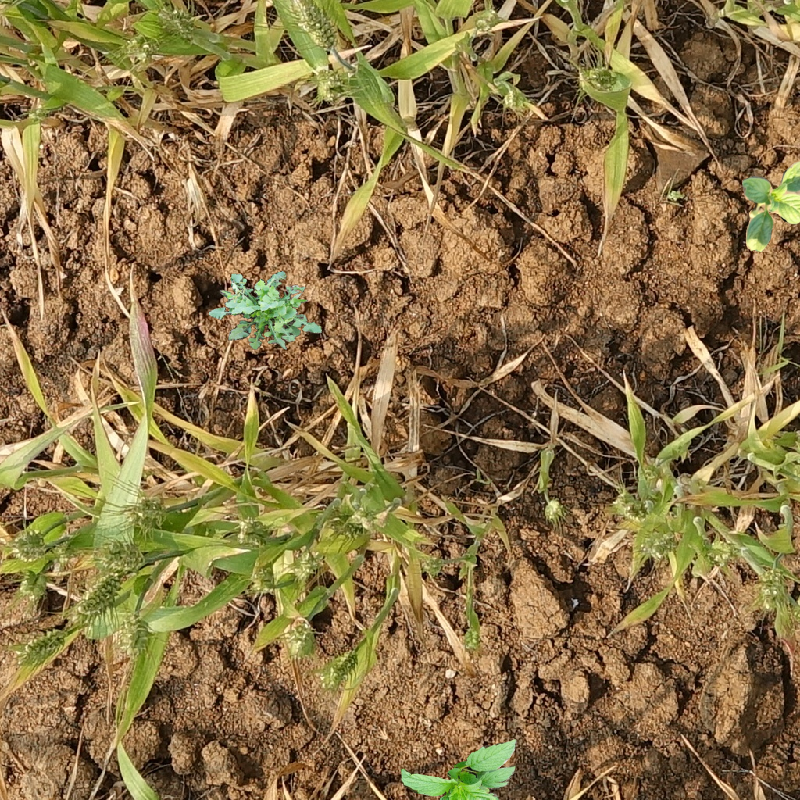spikelet: (71, 570, 124, 625), (290, 1, 339, 51), (322, 495, 371, 537), (14, 628, 65, 667), (155, 2, 200, 42), (96, 538, 145, 574), (318, 648, 357, 690), (757, 566, 791, 611), (110, 33, 154, 67), (580, 62, 625, 95), (280, 618, 316, 658), (312, 63, 347, 104), (127, 493, 166, 529), (638, 527, 680, 558), (11, 527, 47, 561), (114, 616, 145, 655), (236, 514, 272, 547), (464, 6, 500, 38), (248, 562, 279, 596), (17, 569, 48, 600), (705, 535, 736, 565), (292, 549, 320, 581), (500, 84, 529, 113), (418, 551, 446, 578), (541, 495, 566, 523)
weed: (209, 271, 322, 350), (401, 739, 517, 800), (742, 161, 800, 252)
